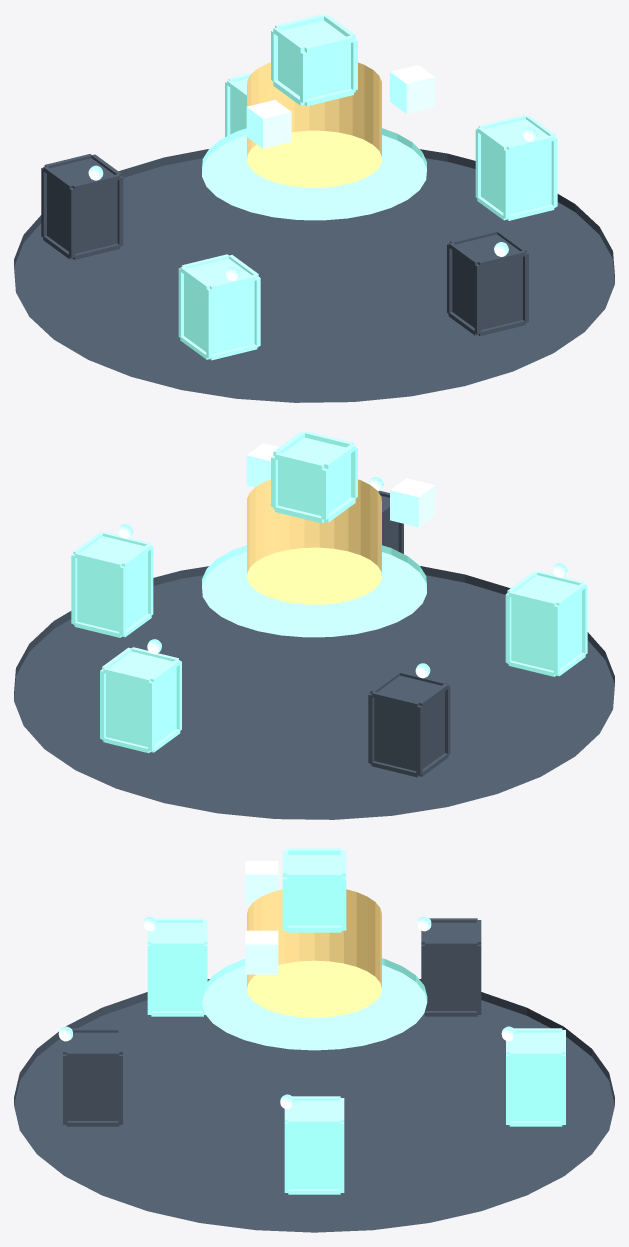
File: lecture-k8s-control-plane.glb
The picture shows the model from 3 angles, top to bottom: view 1: azimuth 30°, elevation 25°; view 2: azimuth 150°, elevation 25°; view 3: azimuth 270°, elevation 25°; orthographic projection.
Visible parts, largest first — view 1: floor-ring, control-plane, cp-halo, worker-3, worker-0, worker-2, worker-1, api-server, controller-manager, scheduler, worker-4; view 2: floor-ring, control-plane, cp-halo, worker-2, worker-3, worker-0, worker-4, api-server, scheduler, controller-manager, worker-1; view 3: floor-ring, control-plane, cp-halo, worker-0, worker-4, worker-1, worker-3, worker-2, api-server, controller-manager, scheduler.
Part boxes in pixels (x1,y1,x2,y2): floor-ring: (14, 149, 614, 402); control-plane: (247, 62, 381, 187); cp-halo: (202, 128, 426, 220); worker-3: (41, 154, 123, 259); worker-0: (475, 115, 557, 220); worker-2: (178, 254, 260, 360); worker-1: (447, 230, 528, 336); api-server: (271, 14, 357, 106); controller-manager: (390, 65, 435, 113); scheduler: (246, 100, 291, 148); worker-4: (225, 73, 251, 136); floor-ring: (14, 566, 614, 819); control-plane: (247, 479, 381, 604); cp-halo: (202, 545, 426, 637); worker-2: (505, 571, 587, 676); worker-3: (368, 671, 450, 777); worker-0: (71, 532, 153, 637); worker-4: (100, 647, 181, 753); api-server: (271, 431, 357, 523); scheduler: (390, 478, 435, 527); controller-manager: (246, 443, 278, 487); worker-1: (378, 490, 403, 553); floor-ring: (14, 979, 614, 1232); control-plane: (247, 889, 381, 1017); cp-halo: (201, 958, 427, 1050); worker-0: (284, 1096, 344, 1194); worker-4: (506, 1028, 565, 1126); worker-1: (63, 1028, 122, 1126); worker-3: (421, 918, 481, 1016); worker-2: (147, 918, 207, 1016); api-server: (282, 848, 346, 932); controller-manager: (245, 930, 278, 974); scheduler: (245, 861, 278, 904).
Size of what is drawn, in the model's own units: 4 by 1.79 by 4.
